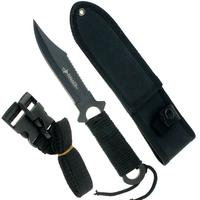knife: (26, 14, 134, 175)
